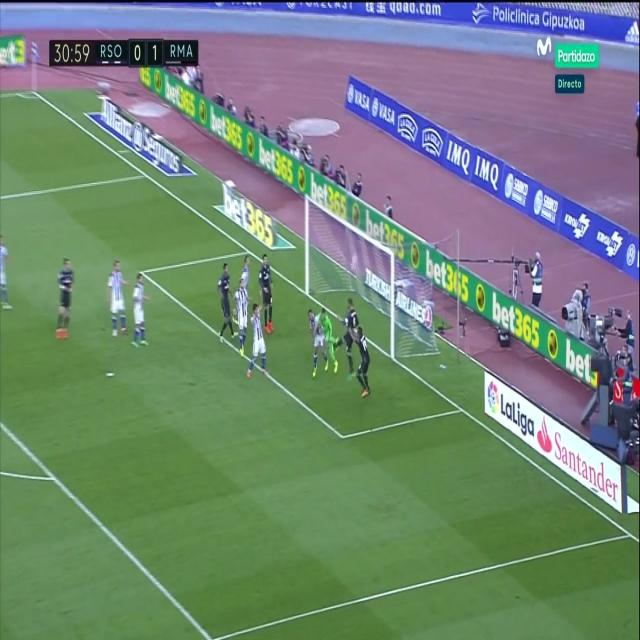Goalkeeper: (320, 304, 340, 376)
Player: (104, 257, 131, 341), (301, 308, 331, 377), (53, 256, 76, 340), (244, 303, 268, 381), (130, 274, 152, 356), (353, 324, 374, 403), (232, 279, 253, 357), (337, 298, 358, 376), (256, 253, 276, 334), (216, 258, 234, 348), (0, 234, 14, 318), (238, 252, 253, 288)
